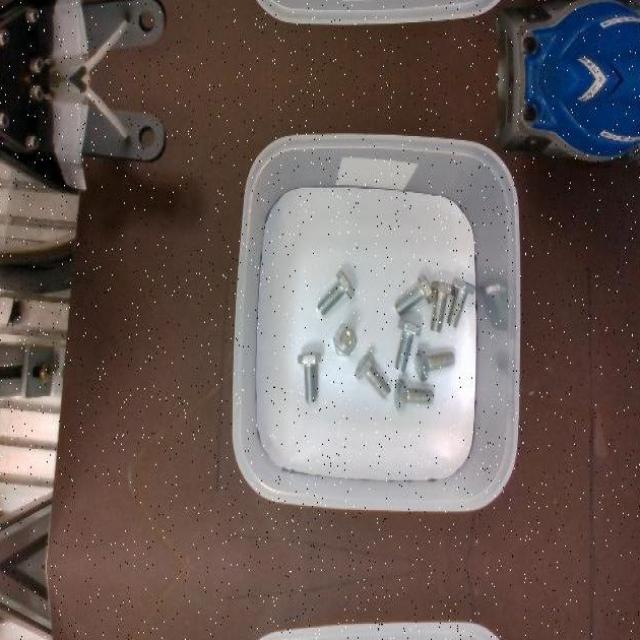screw: (354, 350, 391, 400), (317, 270, 353, 316), (394, 272, 433, 314), (446, 275, 475, 327), (394, 318, 421, 372), (394, 378, 434, 412), (430, 280, 456, 332), (298, 350, 322, 402), (415, 350, 454, 380), (333, 325, 356, 356)
